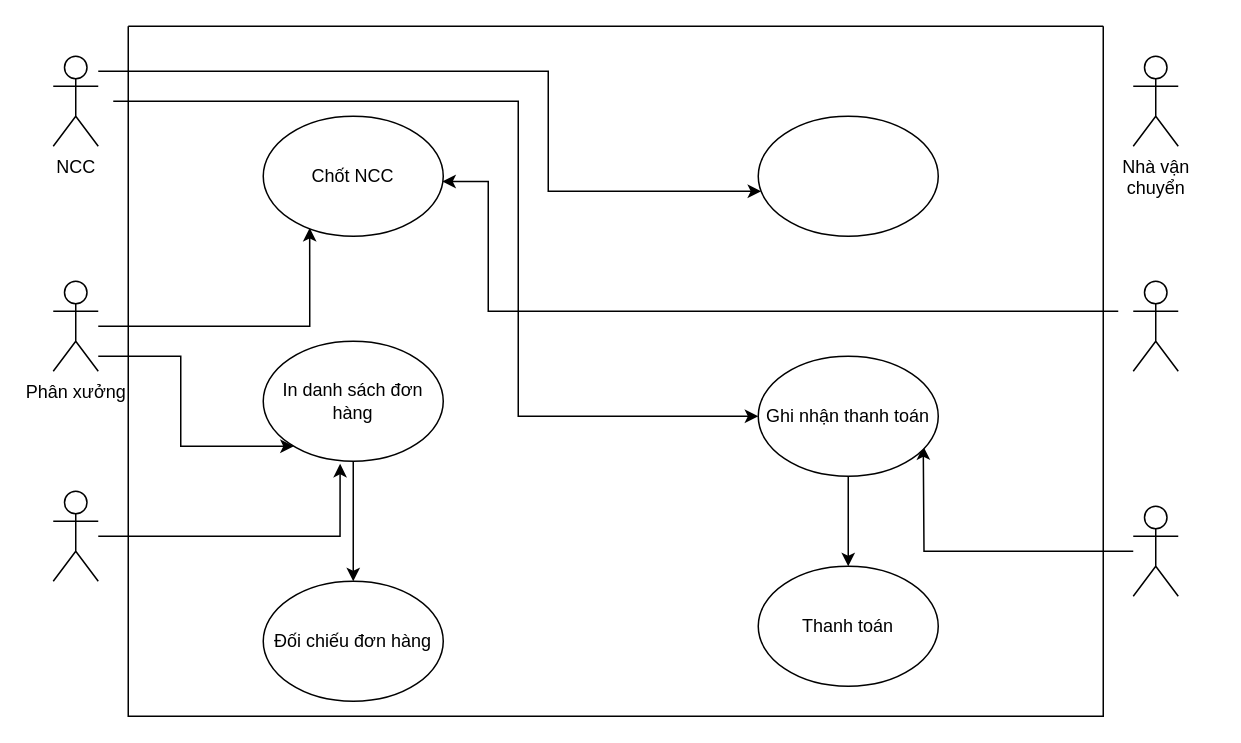
Some shapes in this 1241 by 743 pixel diagram are drawn without their labels. The shapes that lost their labels are listed below. From the top down, each one's centre as x and y in pixels, then its label:
At point 847,175: "Làm đơn hàng".
At point 1155,325: "Hệ thống cung ứng vật tư".
At point 75,535: "Người quản lý đơn hàng".
At point 1155,550: "Bộ phận thanh toán".
